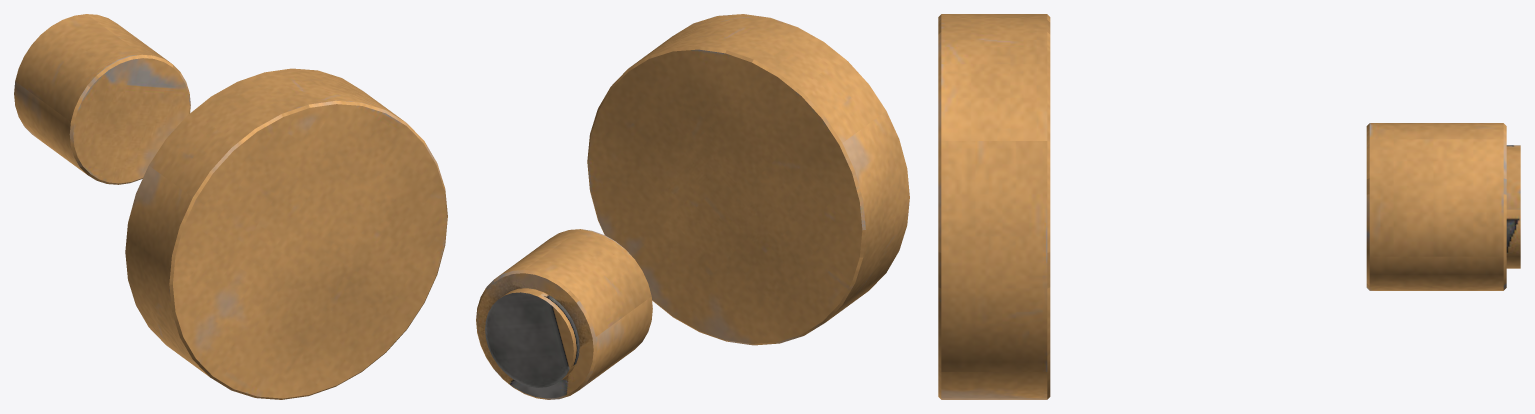
File: rocketjump.glb
3 views of the same model, side by side, from view 1: azimuth 30°, elevation 25°; view 2: azimuth 150°, elevation 25°; view 3: azimuth 270°, elevation 25° (orthographic). The views are drawn at different scales.
Visible parts, largest first — view 1: band, cap; view 2: band, cap, face; view 3: band, cap, face.
Boxes of the visible parts, left/top/right/bottom form: band: left=125, top=68, right=447, bottom=399; cap: left=14, top=14, right=190, bottom=184; band: left=587, top=14, right=909, bottom=345; cap: left=476, top=229, right=652, bottom=399; face: left=485, top=288, right=579, bottom=387; band: left=938, top=14, right=1050, bottom=399; cap: left=1366, top=123, right=1506, bottom=290; face: left=1506, top=145, right=1520, bottom=268.
Size of the model in its own units: 0.138 by 0.138 by 0.208.
1 material, 1 textured.
